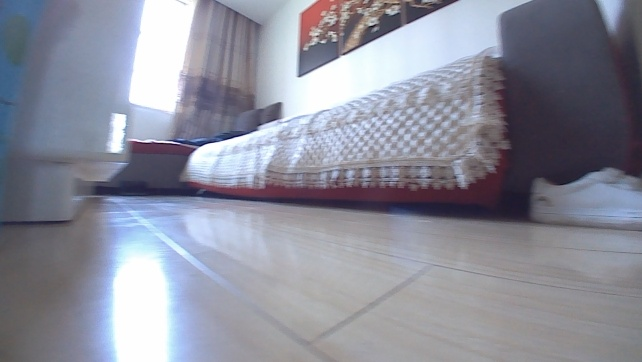shoe: (525, 162, 641, 233)
sofa: (117, 42, 513, 215)
